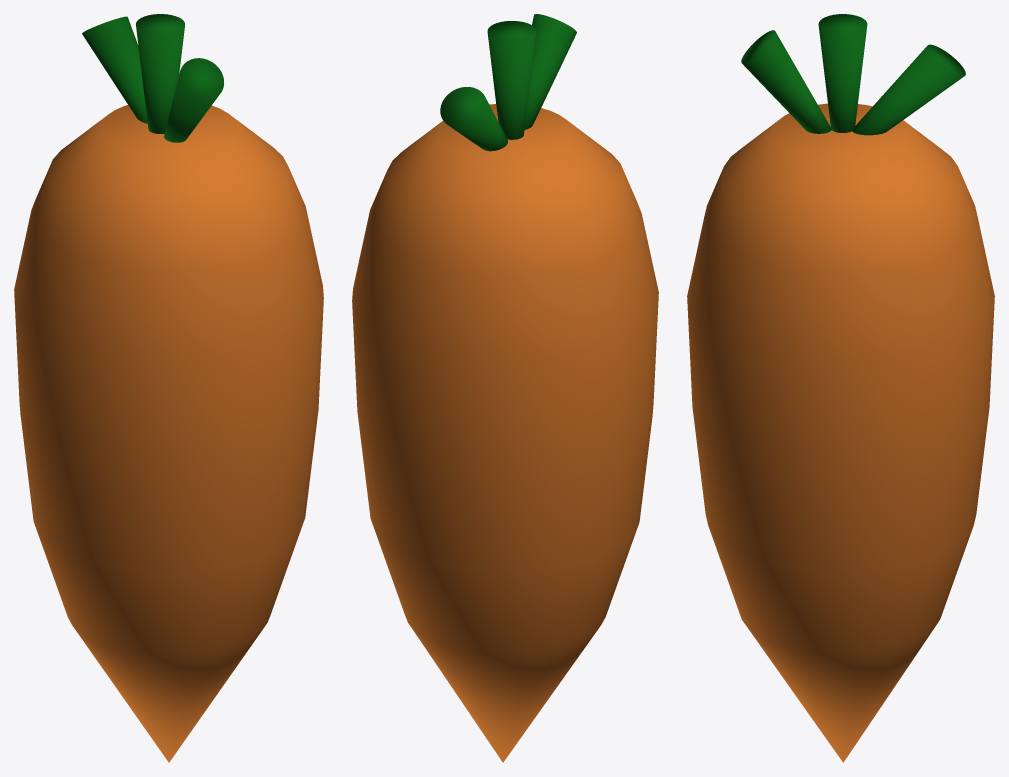
The model's file is carrot.fbx.
3 renders of one model, left to right at view 1: azimuth 30°, elevation 25°; view 2: azimuth 150°, elevation 25°; view 3: azimuth 270°, elevation 25°, orthographic.
Parts seen in each view (by area): view 1: Cone; view 2: Cone; view 3: Cone.
Part boxes in pixels (x1,y1,x2,y2): Cone: [14, 14, 323, 762]; Cone: [352, 14, 658, 762]; Cone: [687, 14, 994, 762].
Size of the model in its own units: 173 by 456 by 173.
